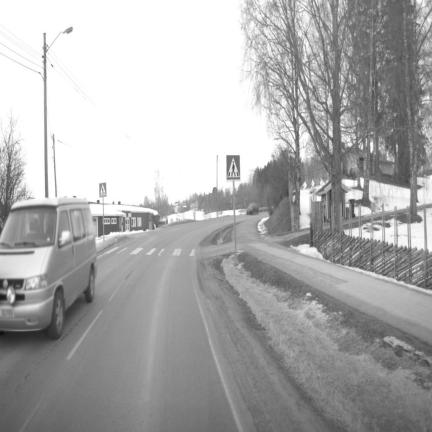Road: (0, 219, 326, 431)
